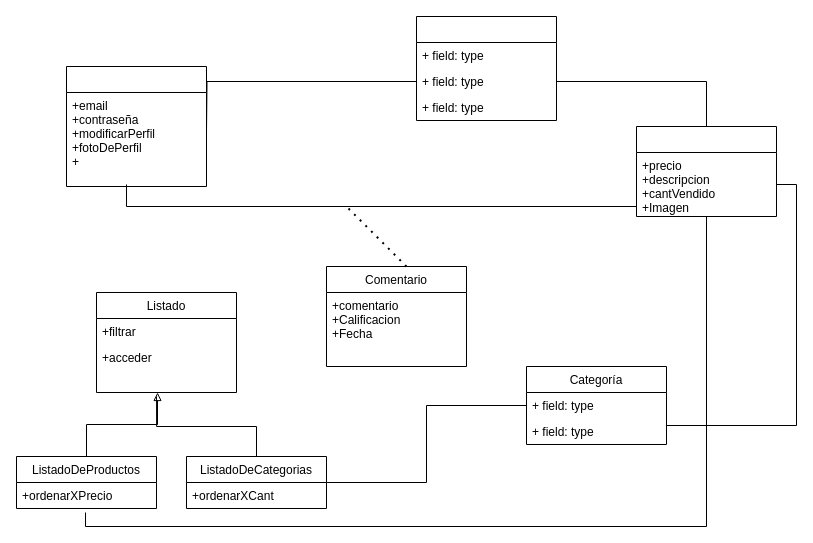
Some shapes in this 813 by 543 pixel diagram are drawn without their labels. Each missing label, with the box of its shape:
Carrito: (416, 16, 556, 120)
Producto: (636, 126, 776, 216)
Usuario: (66, 66, 206, 186)
